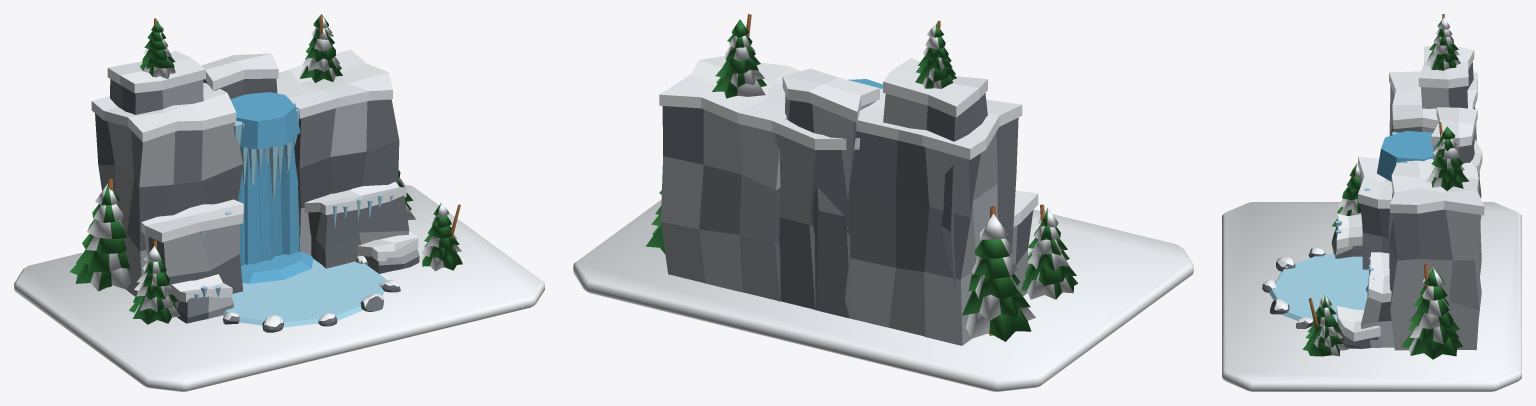
Rendered from frozen-cliff-waterfall.glb.
3 views of the same model, side by side, from view 1: azimuth 30°, elevation 25°; view 2: azimuth 150°, elevation 25°; view 3: azimuth 270°, elevation 25° (orthographic). The views are drawn at different scales.
Parts seen in each view (by area): view 1: Cliff, Ground_Base, Snow_Ledges, Frozen_Falls, Frozen_Pool, Pine_0, Pine_1, Icicles, Pine_3, Pine_5, Ice_Mound, Pine_4; view 2: Cliff, Ground_Base, Snow_Ledges, Pine_0, Pine_1, Pine_5, Pine_4; view 3: Ground_Base, Cliff, Snow_Ledges, Frozen_Pool, Pine_2, Frozen_Falls, Pine_3, Pine_5, Pine_4, Pine_1.
Boxes of the visible parts, x1,y1,x2,y2 form: Cliff: (95,78,419,323); Ground_Base: (14,184,544,391); Snow_Ledges: (91,49,418,302); Frozen_Falls: (230,92,300,265); Frozen_Pool: (222,259,386,327); Pine_0: (70,178,130,291); Pine_1: (129,240,180,324); Icicles: (194,109,393,300); Pine_3: (419,202,462,271); Pine_5: (299,14,342,82); Ice_Mound: (241,251,313,283); Pine_4: (140,18,175,78); Cliff: (661,93,1033,345); Ground_Base: (573,199,1193,391); Snow_Ledges: (659,56,1038,264); Pine_0: (962,206,1035,341); Pine_1: (1021,204,1077,299); Pine_5: (712,14,766,98); Pine_4: (915,20,956,88); Ground_Base: (1222,202,1521,391); Cliff: (1331,62,1481,350); Snow_Ledges: (1336,45,1484,341); Frozen_Pool: (1269,254,1369,325); Pine_2: (1400,264,1462,359); Frozen_Falls: (1377,131,1433,181); Pine_3: (1302,294,1347,356); Pine_5: (1425,122,1468,190); Pine_4: (1424,14,1460,70); Pine_1: (1332,163,1361,226).
Size of the model in its own units: 39.87 by 25.3 by 27.68.
